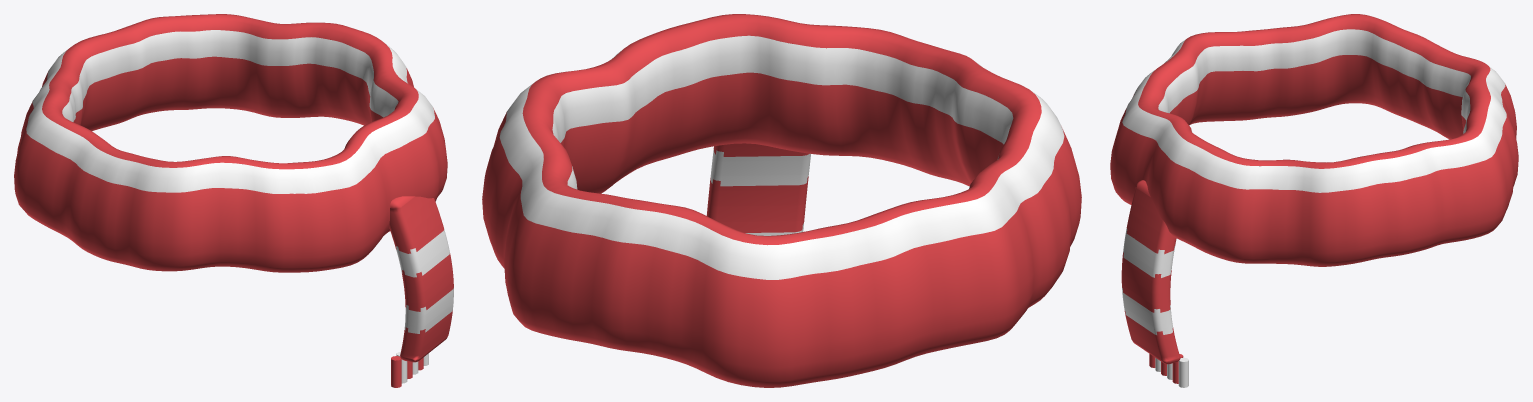
The model's file is scarf.glb.
The picture shows the model from 3 angles, left to right: view 1: azimuth 30°, elevation 25°; view 2: azimuth 150°, elevation 25°; view 3: azimuth 270°, elevation 25°; orthographic projection. The views are drawn at different scales.
Parts seen in each view (by area): view 1: sala_kruh, sala_konec; view 2: sala_kruh, sala_konec; view 3: sala_kruh, sala_konec.
Boxes of the visible parts, x1,y1,x2,y2 form: sala_kruh: (14, 14, 447, 272); sala_konec: (389, 196, 453, 362); sala_kruh: (482, 14, 1081, 387); sala_konec: (706, 143, 810, 235); sala_kruh: (1110, 14, 1518, 266); sala_konec: (1121, 180, 1180, 364).
Bounding box in the file's own units: 0.8712 × 0.56 × 0.8574.
